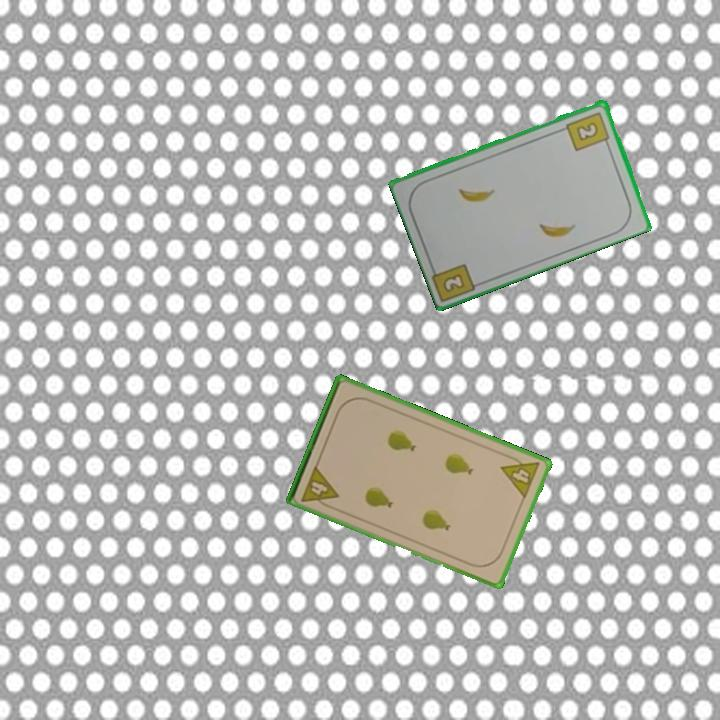2b: (563, 108, 613, 154), (439, 270, 468, 295)
4p: (497, 450, 543, 501), (298, 462, 341, 512)
